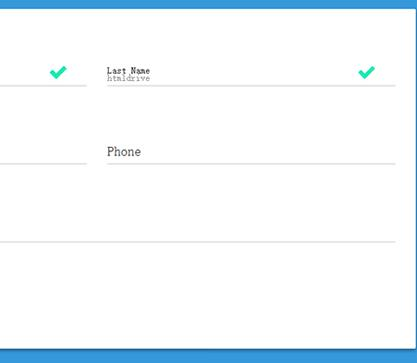field_line: (105, 60, 396, 87), (104, 140, 395, 167)
